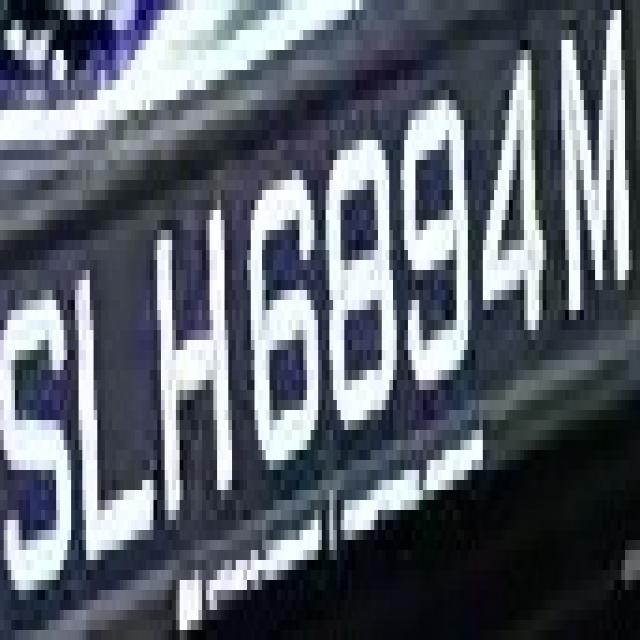4: (472, 10, 550, 370)
6: (243, 120, 333, 520)
8: (318, 80, 401, 440)
9: (393, 100, 479, 400)
H: (134, 180, 240, 530)
L: (75, 230, 165, 580)
M: (546, 0, 640, 330)
